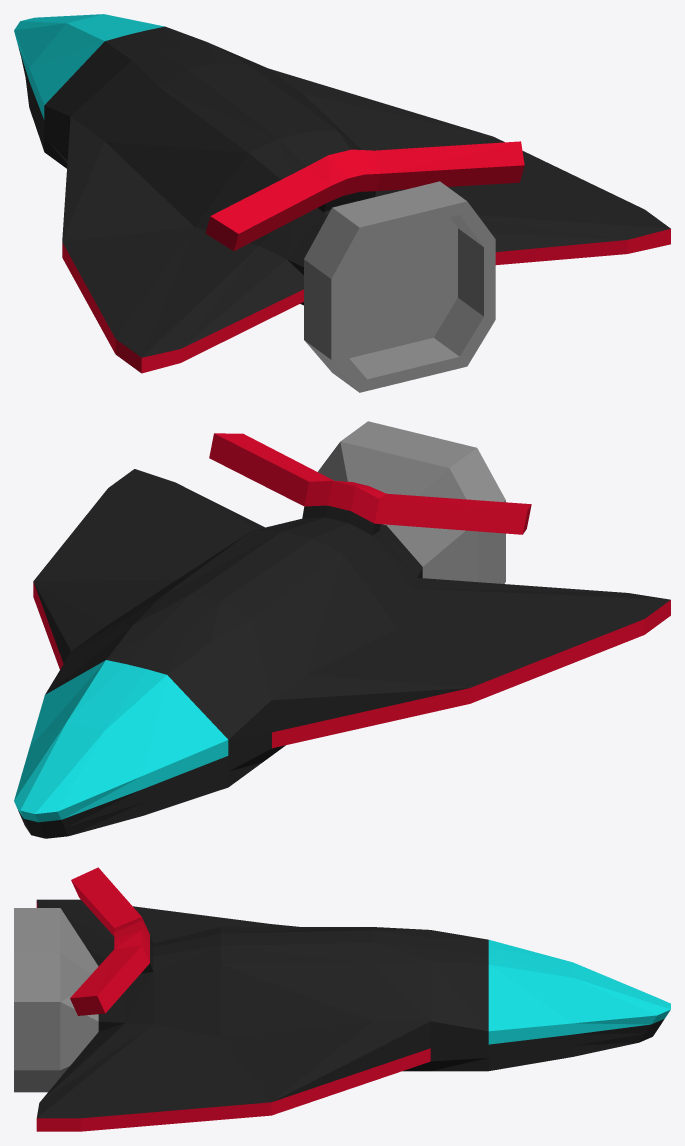
The model's file is ship5.fbx.
3 renders of one model, top to bottom at view 1: azimuth 30°, elevation 25°; view 2: azimuth 150°, elevation 25°; view 3: azimuth 270°, elevation 25°, orthographic. The views are drawn at different scales.
Parts seen in each view (by area): view 1: Ship; view 2: Ship; view 3: Ship.
Boxes of the visible parts, x1,y1,x2,y2 form: Ship: (14, 14, 670, 392); Ship: (14, 421, 670, 838); Ship: (14, 867, 670, 1131).
Bounding box in the file's own units: 261 × 80.95 × 332.
